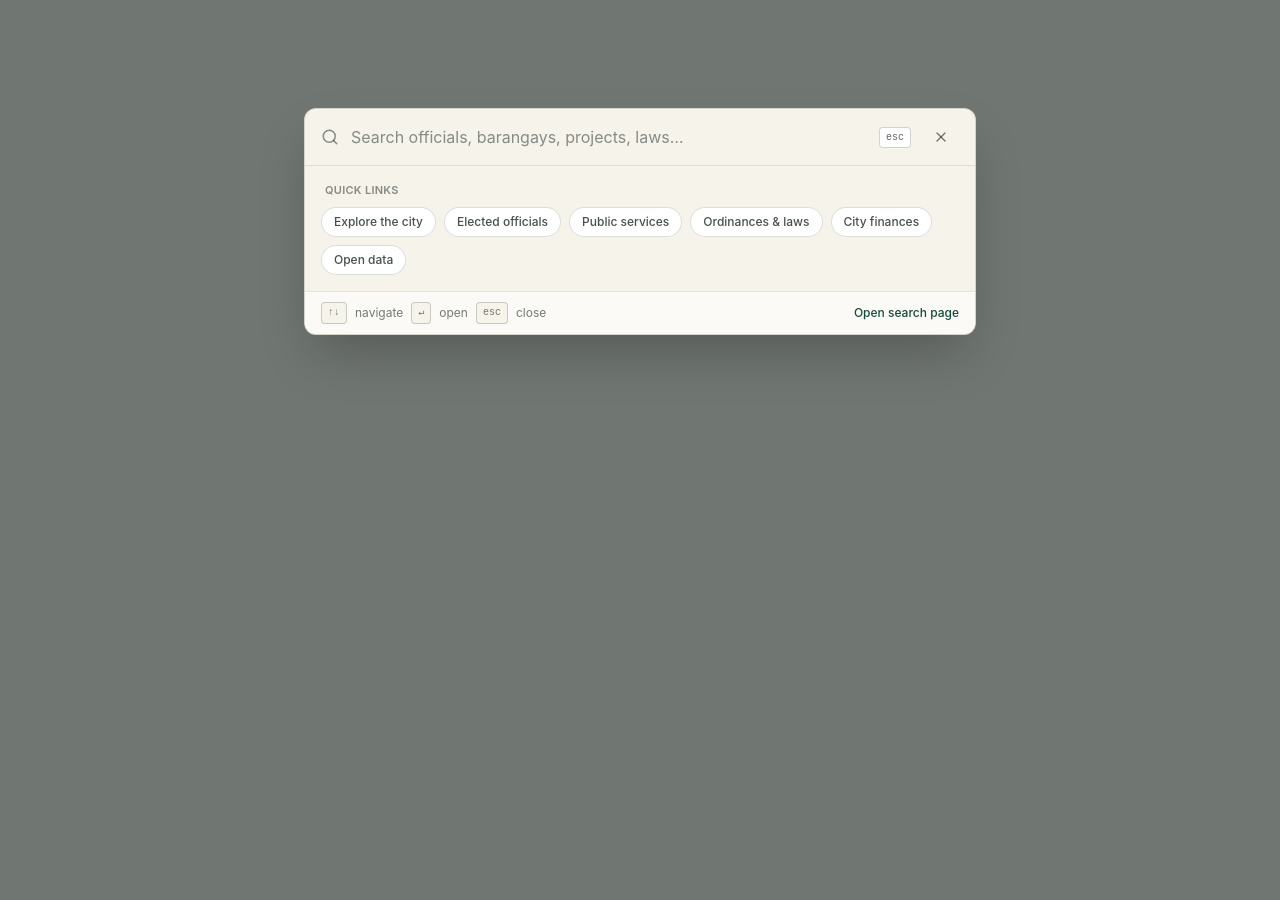
Test: SearchModal › shows a no-match hint and keeps the view-all-results link pointed at /search
The width and height of the screenshot is (1280, 900).
In the dropdown with id "search-modal-input": (609, 137) x1=351 y1=109 x2=867 y2=165, type "zzzznothing"
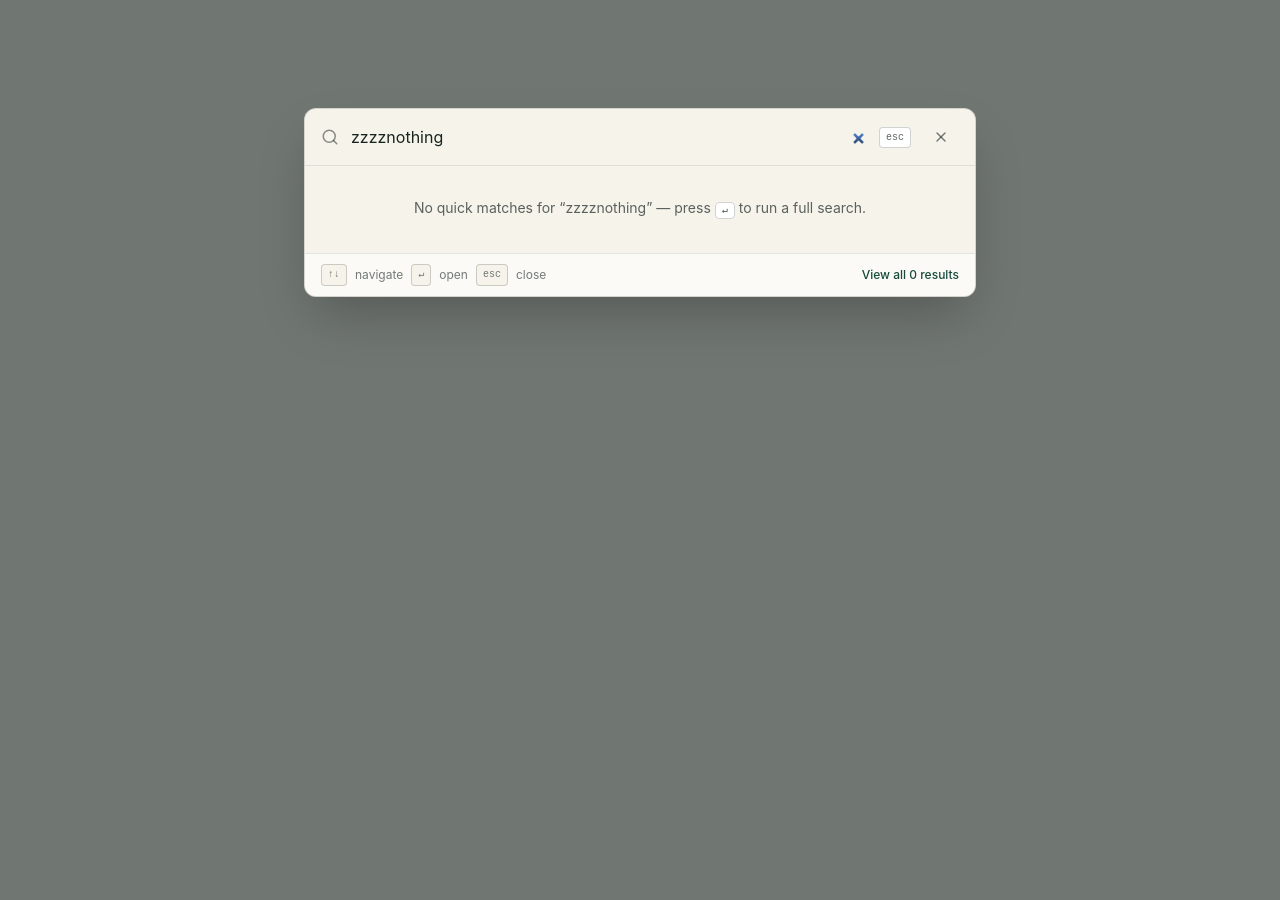
expect the link to "/search?q=zzzznothing" is shown: met, box x1=862 y1=267 x2=959 y2=283
expect the text "No quick matches" is shown: met, box x1=414 y1=199 x2=715 y2=216
